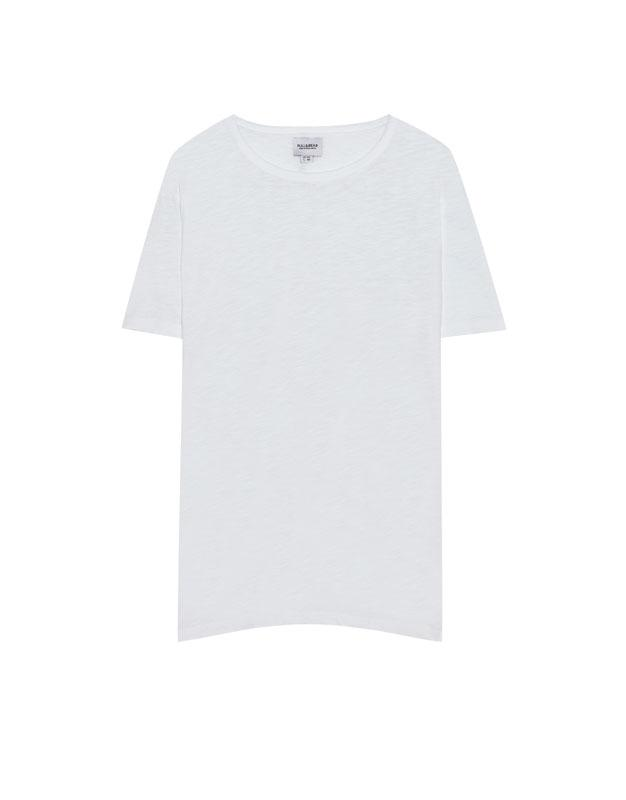teeshirt: (111, 118, 533, 698)
